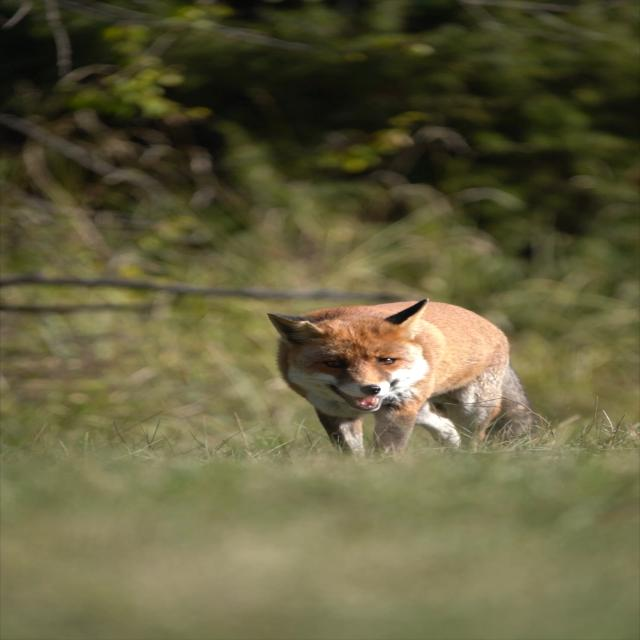fox: (243, 282, 567, 470)
